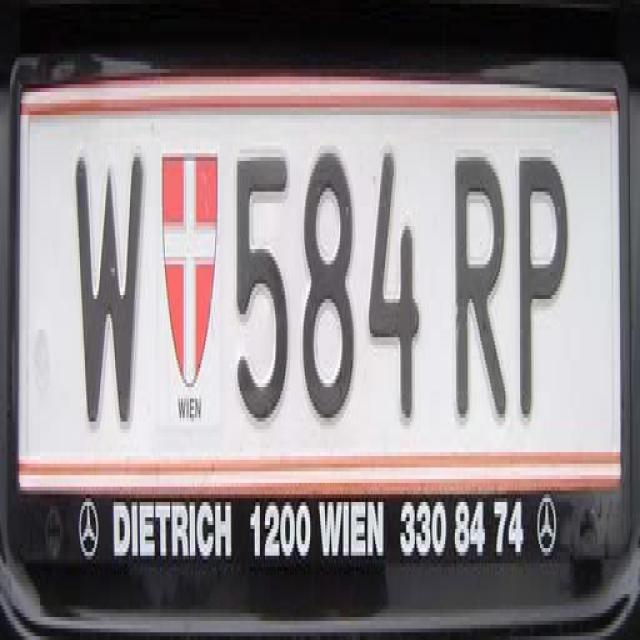Autre: (20, 98, 618, 465)
